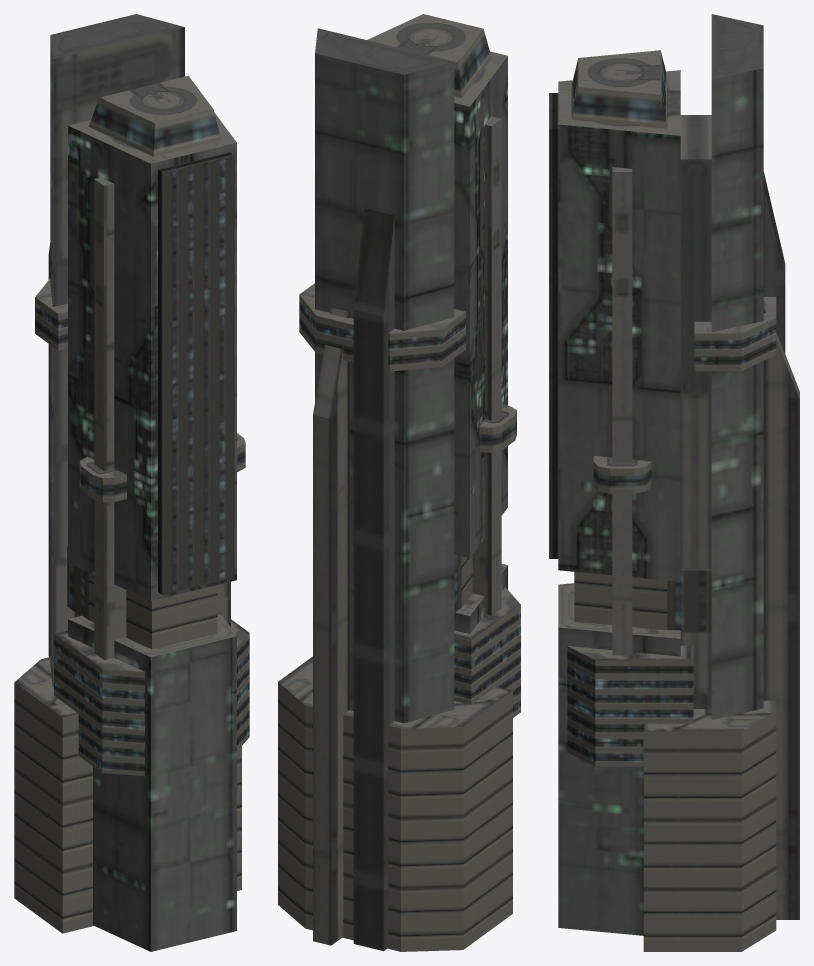
The model's file is Skyscraper_distance_1.gltf.
3 views of the same model, side by side, from view 1: azimuth 30°, elevation 25°; view 2: azimuth 150°, elevation 25°; view 3: azimuth 270°, elevation 25° (orthographic). The views are drawn at different scales.
Visible parts, largest first — view 1: Skyscraper_distance_1; view 2: Skyscraper_distance_1; view 3: Skyscraper_distance_1.
Part boxes in pixels (box(x1,y1,x2,y2)): Skyscraper_distance_1: box(14, 14, 249, 951); Skyscraper_distance_1: box(278, 14, 520, 951); Skyscraper_distance_1: box(549, 14, 799, 951).
Bounding box in the file's own units: 30.51 × 137 × 36.22.
